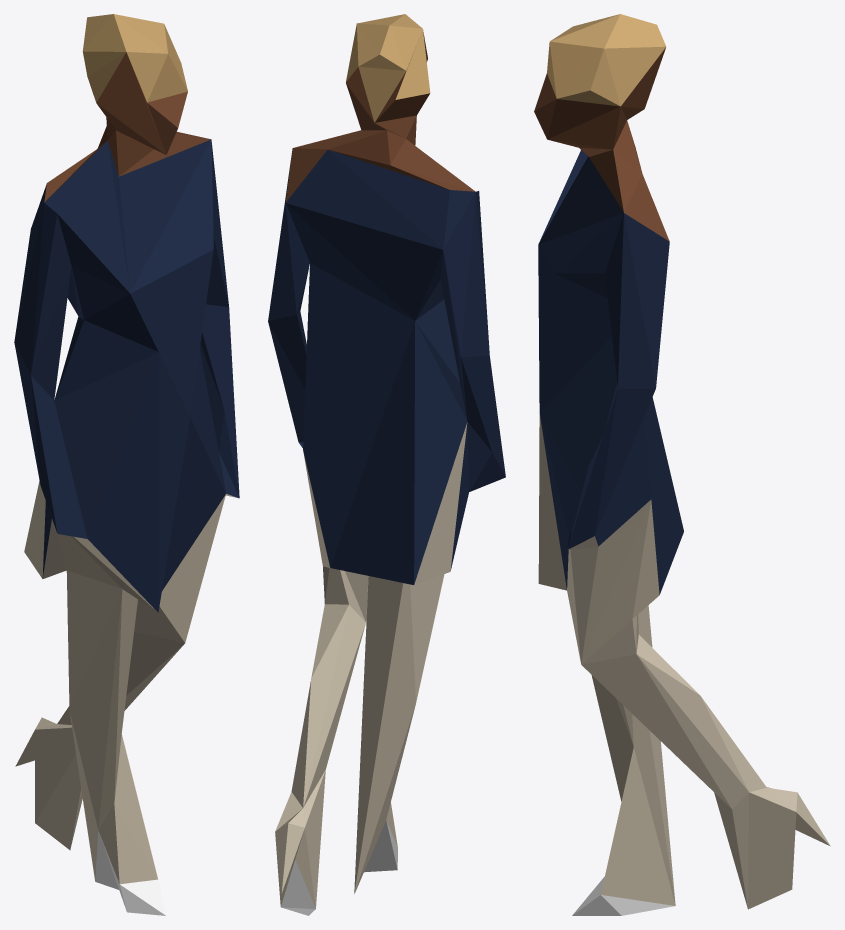
File: walker-3.glb
3 renders of one model, left to right at view 1: azimuth 30°, elevation 25°; view 2: azimuth 150°, elevation 25°; view 3: azimuth 270°, elevation 25°, orthographic. The views are drawn at different scales.
Parts seen in each view (by area): view 1: Woman08; view 2: Woman08; view 3: Woman08.
Boxes of the visible parts, <box> form: Woman08: <box>14,14,239,915</box>; Woman08: <box>268,14,505,915</box>; Woman08: <box>534,14,830,915</box>.
Bounding box in the file's own units: 0.3797 × 1.55 × 0.4708.
